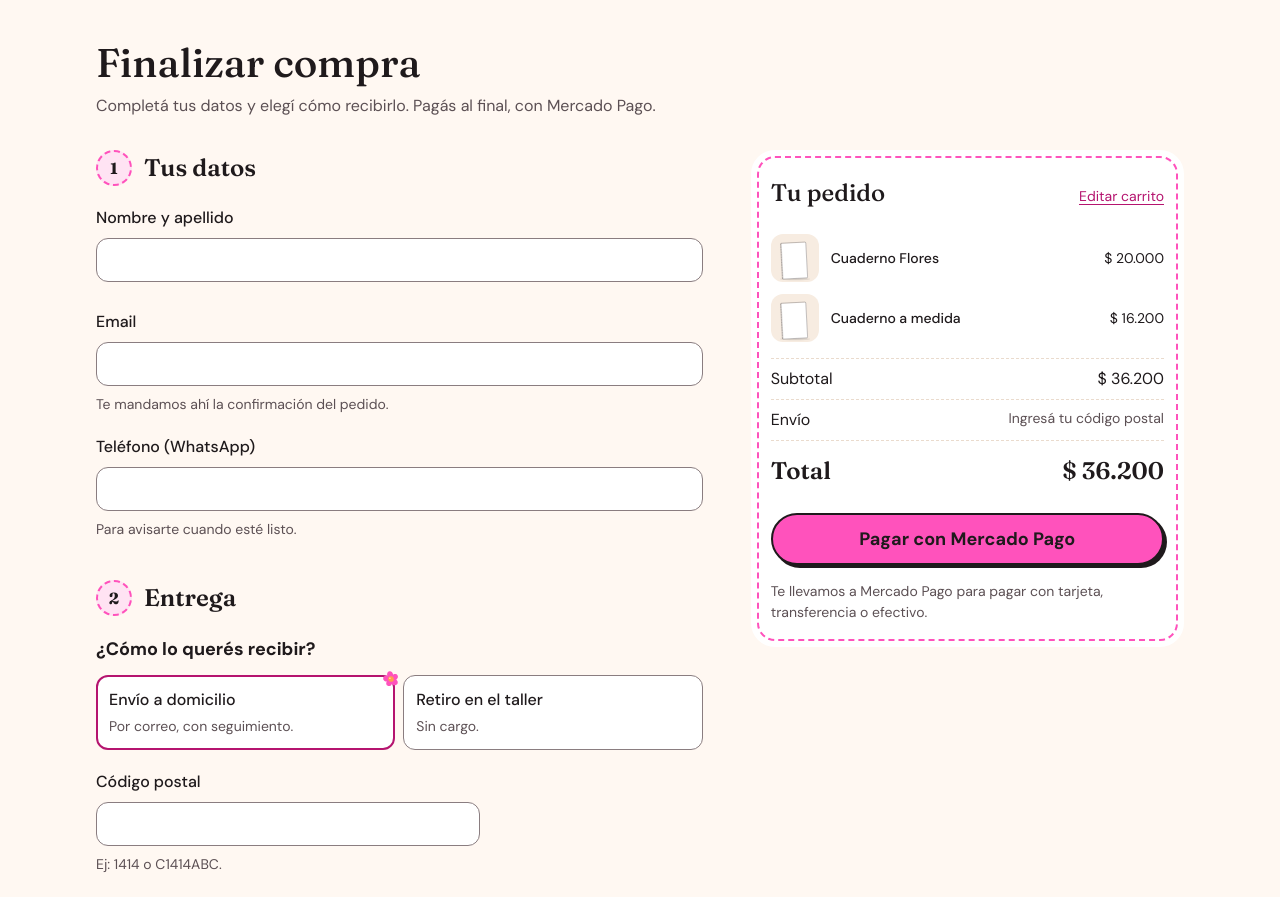
Test case: CheckoutView › cotiza el envío al escribir el código postal y lo suma al total
Expected: the text "Ingresá tu código postal" is shown, [1008, 408, 1164, 432]
In the field labelled "Código postal": coordinates (288, 824) [96, 802, 480, 846], type "1414"
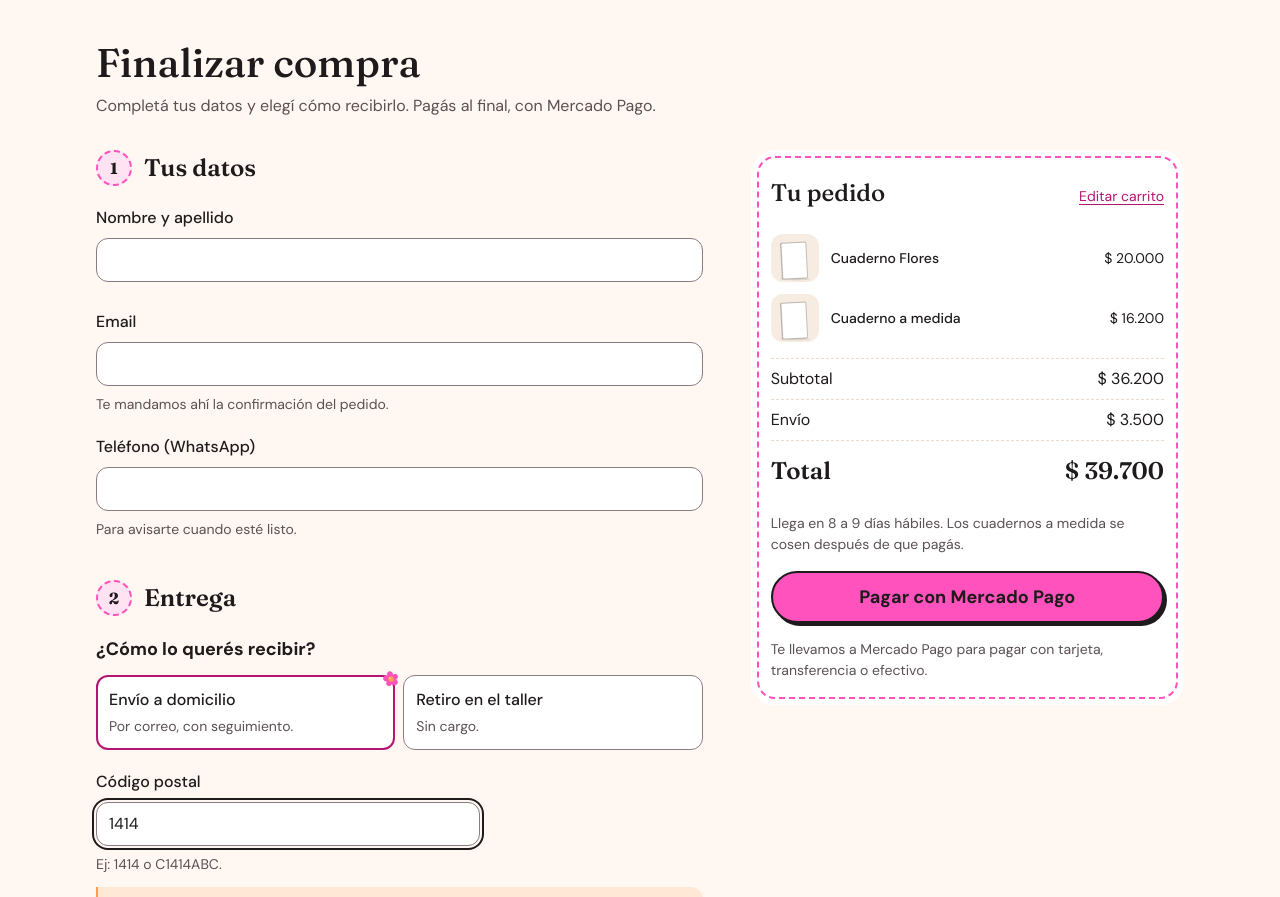
Expected: the element showing "Total $ 39.700" is shown, [771, 456, 1164, 485]
